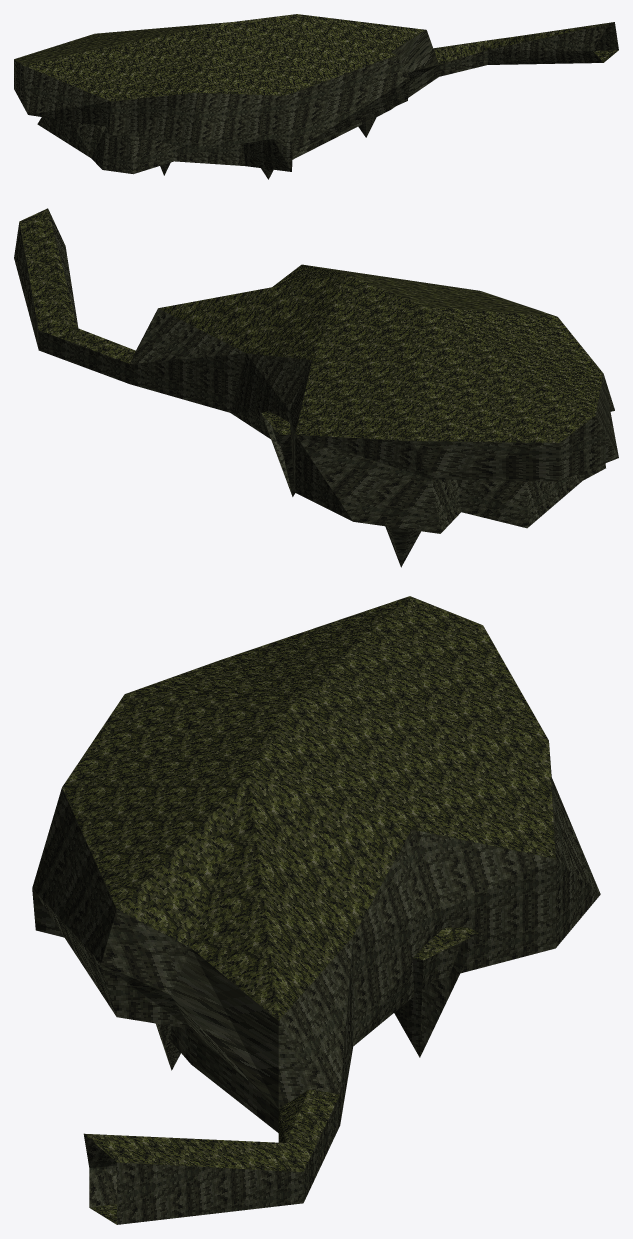
File: variouscaves.obj
3 renders of one model, top to bottom at view 1: azimuth 30°, elevation 25°; view 2: azimuth 150°, elevation 25°; view 3: azimuth 270°, elevation 25°, orthographic. The views are drawn at different scales.
Visible parts, largest first — view 1: variouscaves.001; view 2: variouscaves.001; view 3: variouscaves.001.
Boxes of the visible parts, <box> form: variouscaves.001: <box>14,14,618,179</box>; variouscaves.001: <box>14,208,618,567</box>; variouscaves.001: <box>32,596,600,1224</box>.
Bounding box in the file's own units: 10.26 × 3.21 × 4.77.
